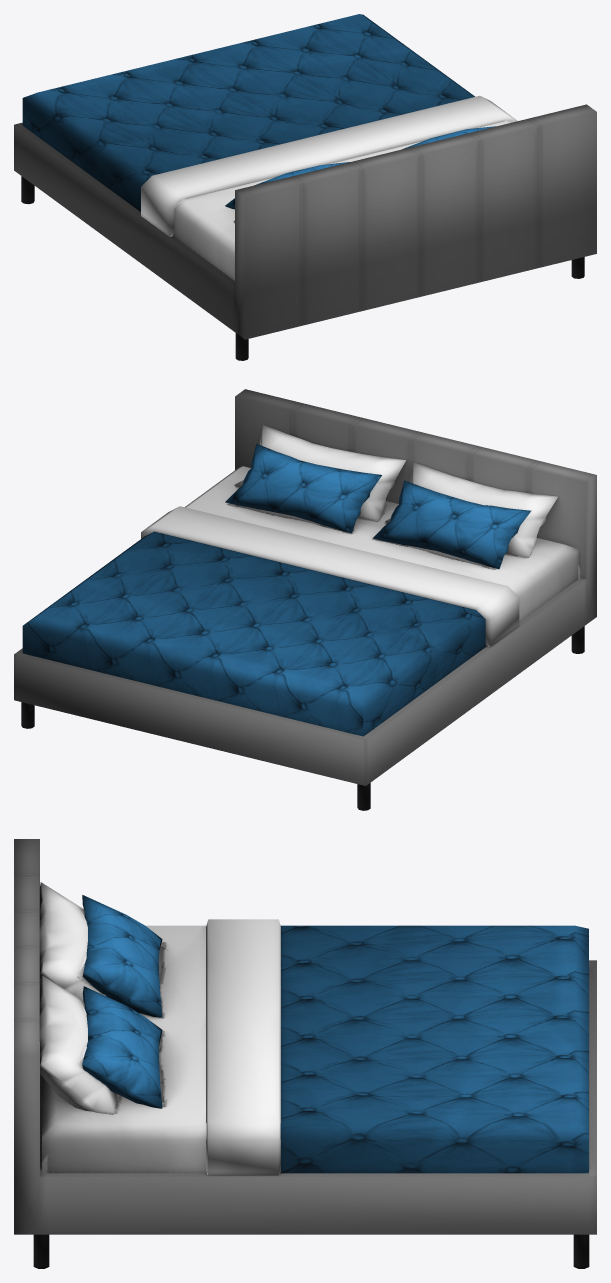
Rendered from FUR0210048.fbx.
3 views of the same model, one above another, from view 1: azimuth 30°, elevation 25°; view 2: azimuth 150°, elevation 25°; view 3: azimuth 270°, elevation 25° (orthographic). The views are drawn at different scales.
Visible parts, largest first — view 1: smFUR0210048; view 2: smFUR0210048; view 3: smFUR0210048.
Part boxes in pixels (x1=…): smFUR0210048: x1=14, y1=14, x2=596, y2=360; smFUR0210048: x1=14, y1=389, x2=596, y2=810; smFUR0210048: x1=14, y1=839, x2=596, y2=1268.
Bounding box in the file's own units: 245 × 113 × 279.
Materials: 1 (1 with a texture image).
